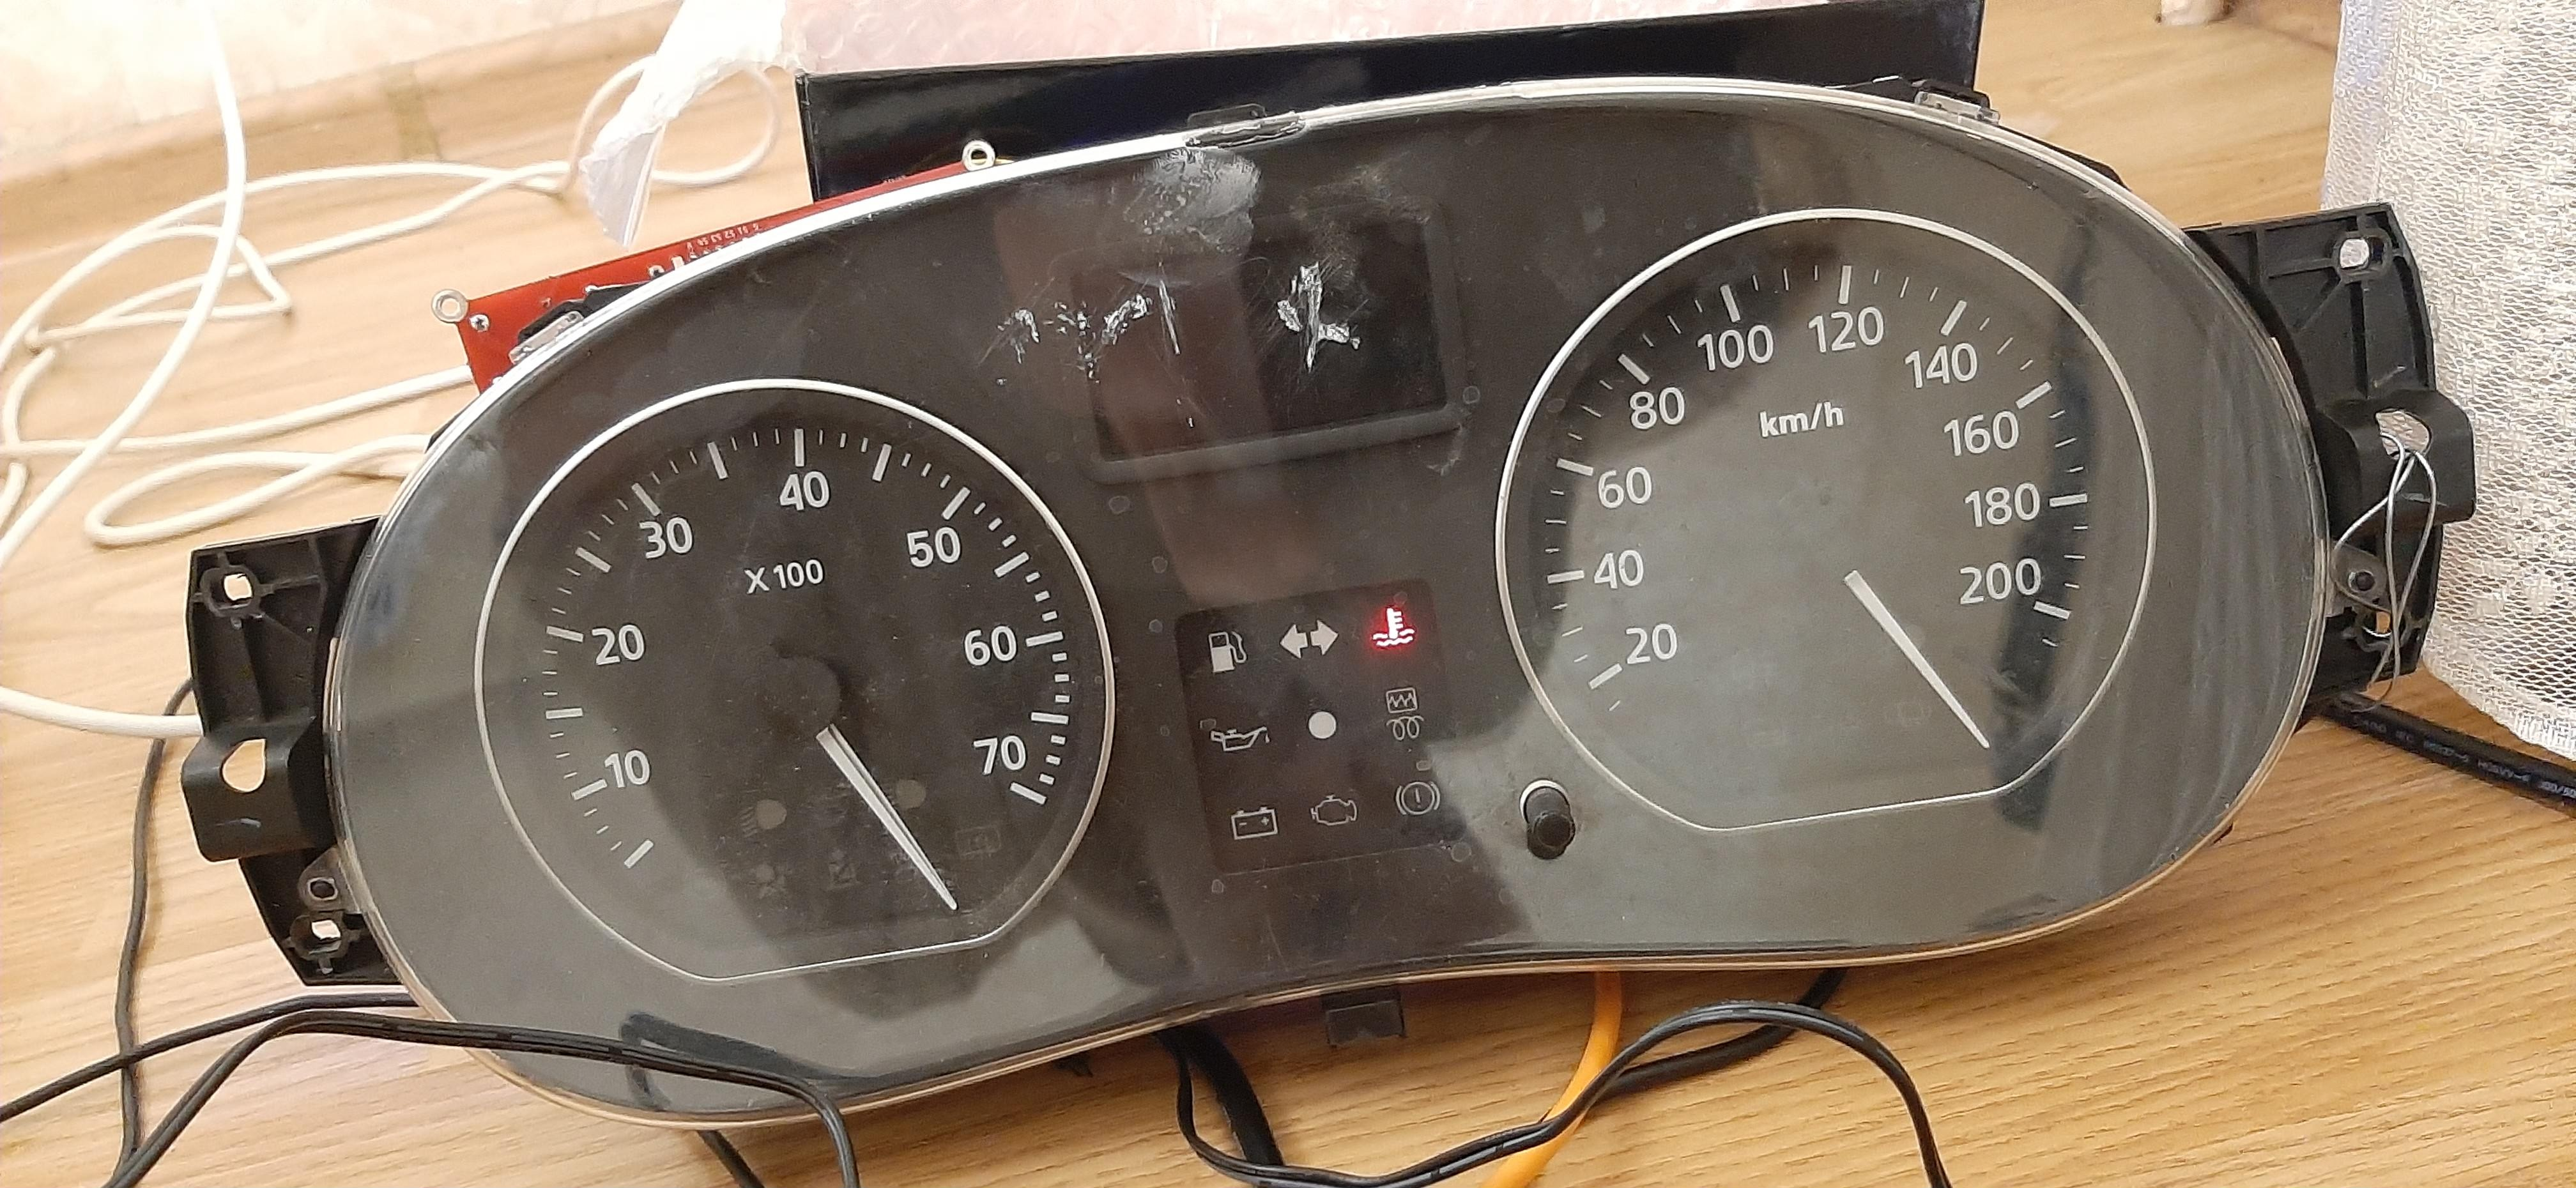Engine Overheating11: (1372, 603, 1416, 649)
